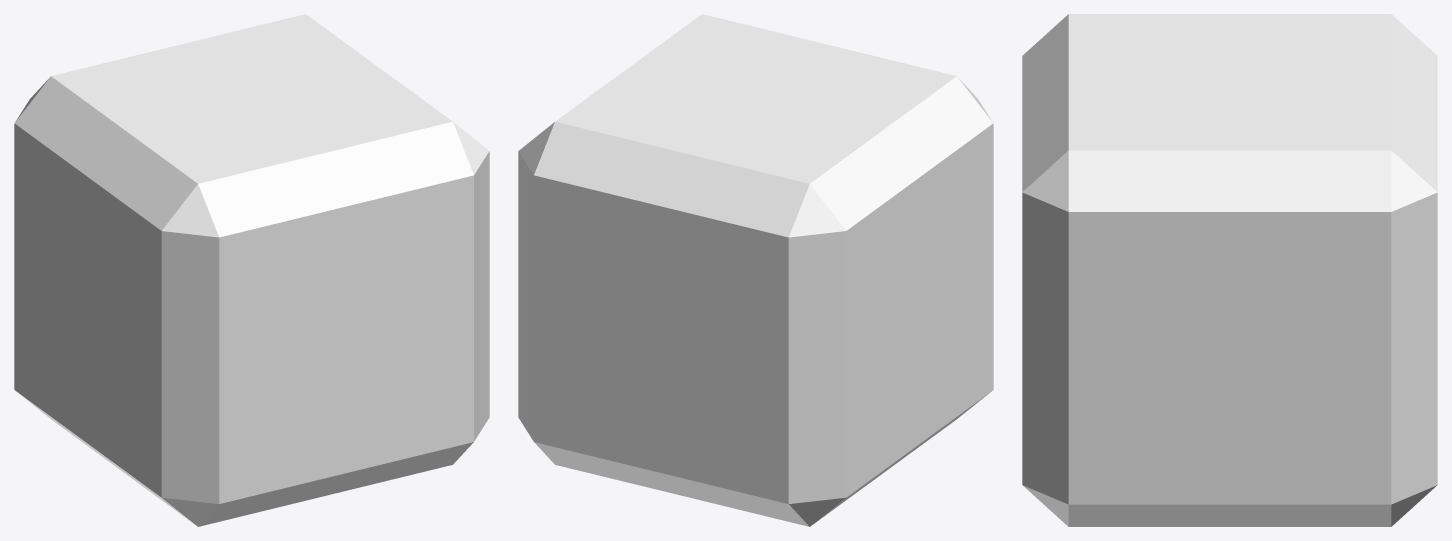
Rendered from boxboard.glb.
3 views of the same model, side by side, from view 1: azimuth 30°, elevation 25°; view 2: azimuth 150°, elevation 25°; view 3: azimuth 270°, elevation 25° (orthographic). The views are drawn at different scales.
Visible parts, largest first — view 1: lablonc; view 2: lablonc; view 3: lablonc.
Part boxes in pixels (box(x1,y1,x2,y2)): lablonc: box(14, 14, 489, 526); lablonc: box(518, 14, 993, 526); lablonc: box(1022, 14, 1437, 526).
Size of the model in its own units: 0.7 by 0.7 by 0.7.
1 material, 1 textured.
